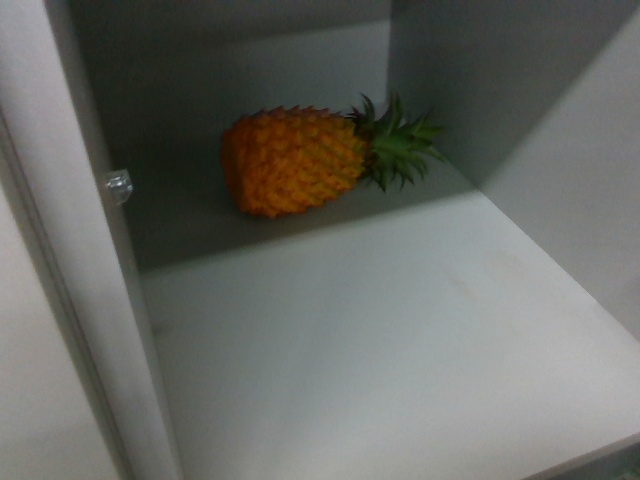pineapple: (223, 93, 435, 226)
